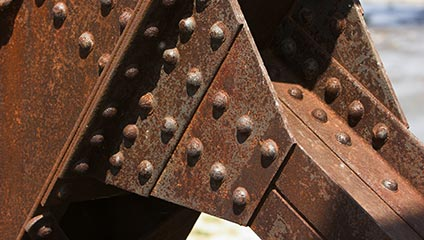rust: (1, 3, 278, 227), (281, 5, 412, 132), (283, 135, 424, 235)
